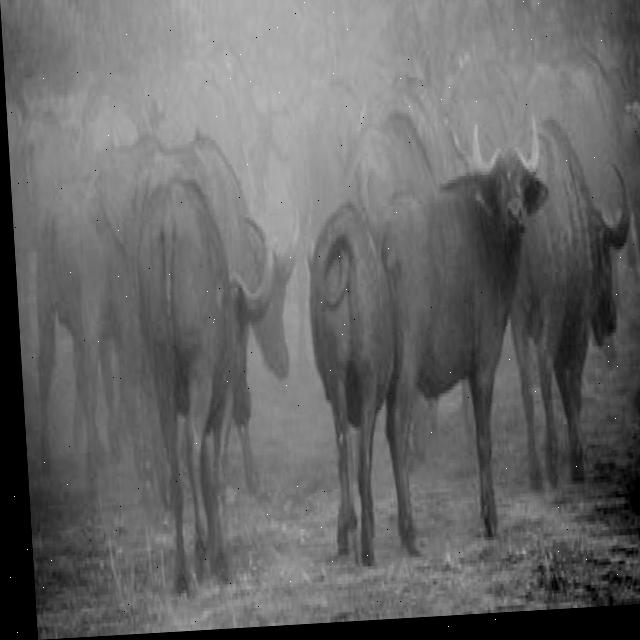Buffalo: (367, 111, 569, 555), (132, 169, 295, 595), (303, 199, 411, 572)
